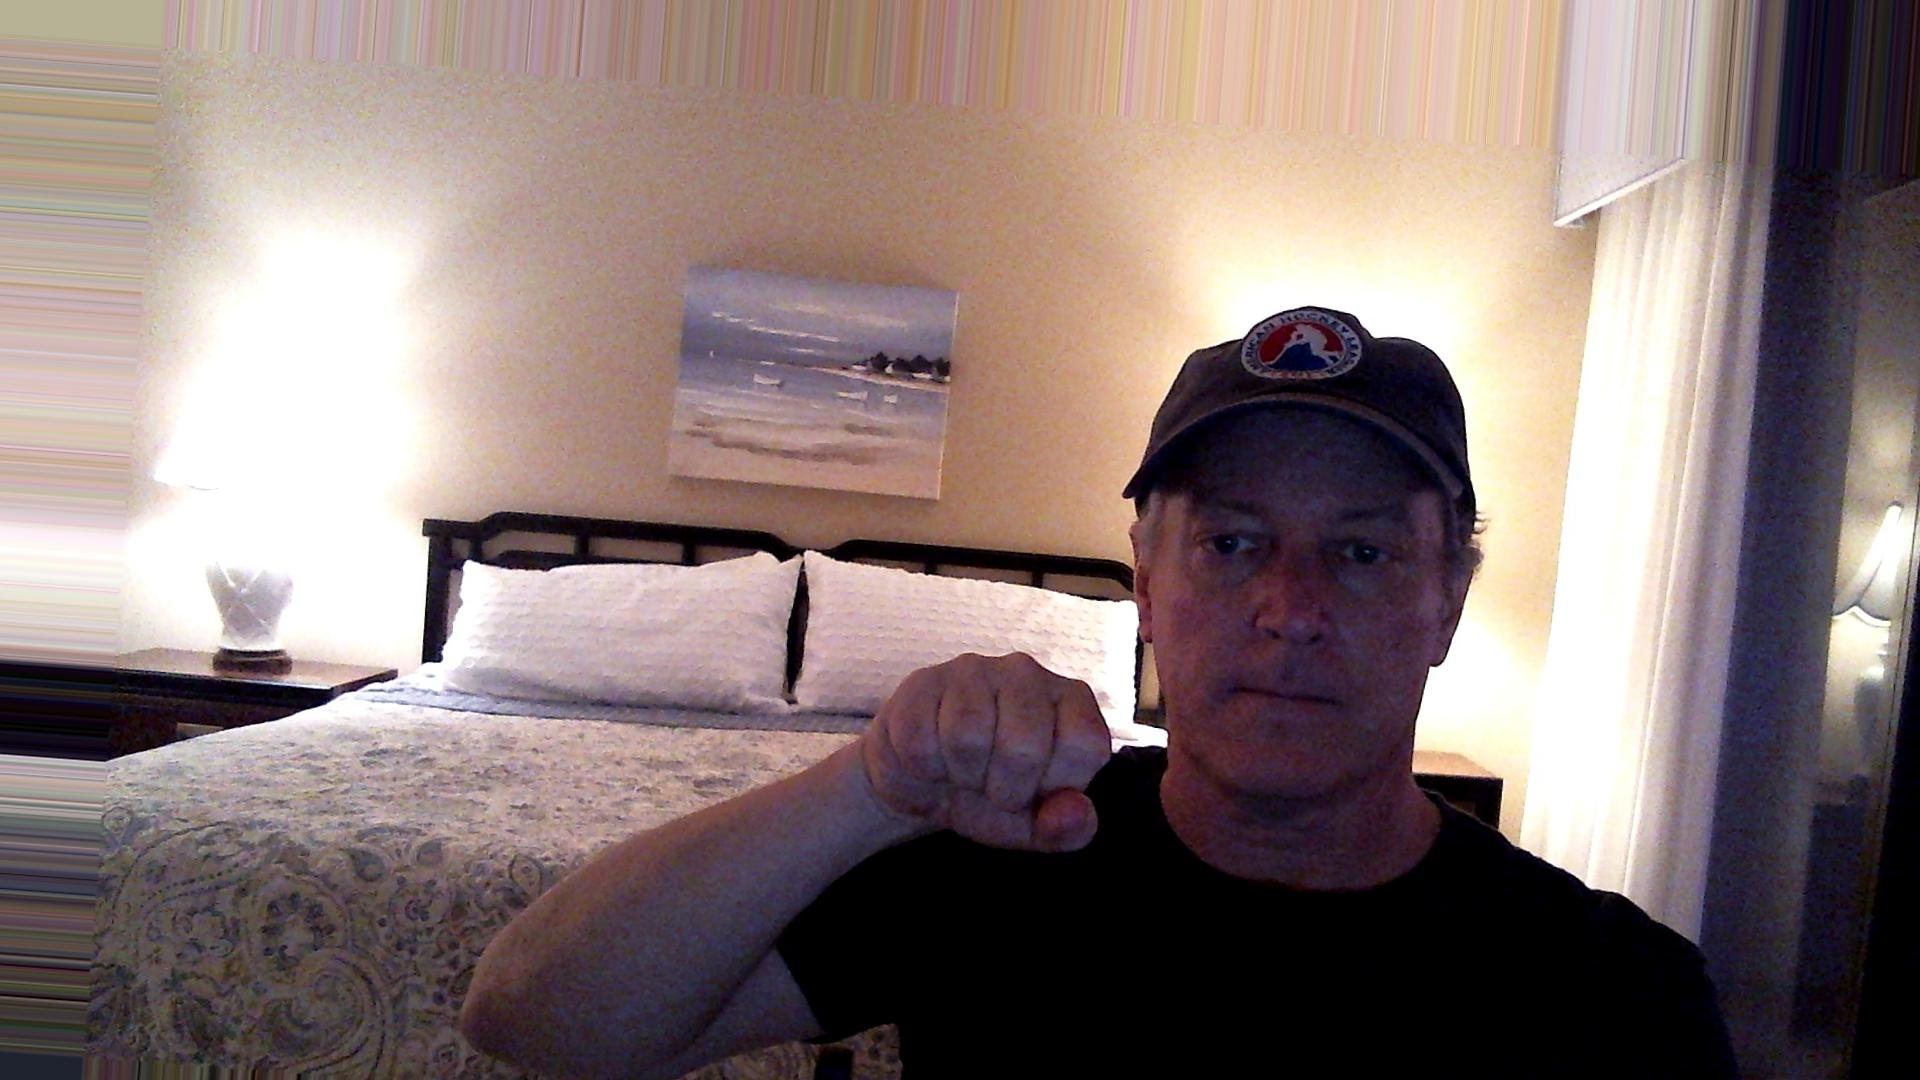Yes: (851, 642, 1153, 890)
